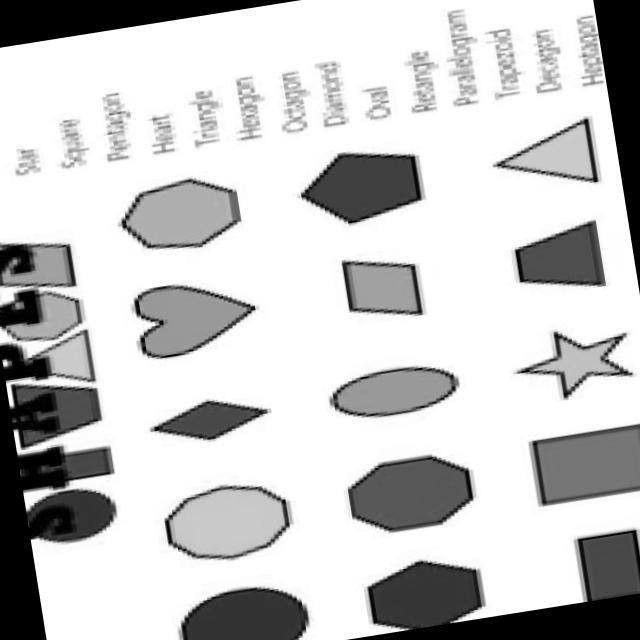circle: (324, 358, 488, 432), (163, 581, 318, 640)
square: (519, 418, 640, 510), (564, 530, 640, 609)
triangle: (489, 112, 613, 203)
